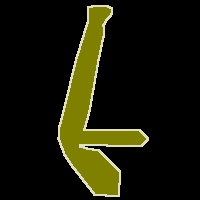tie: (58, 6, 148, 196)
